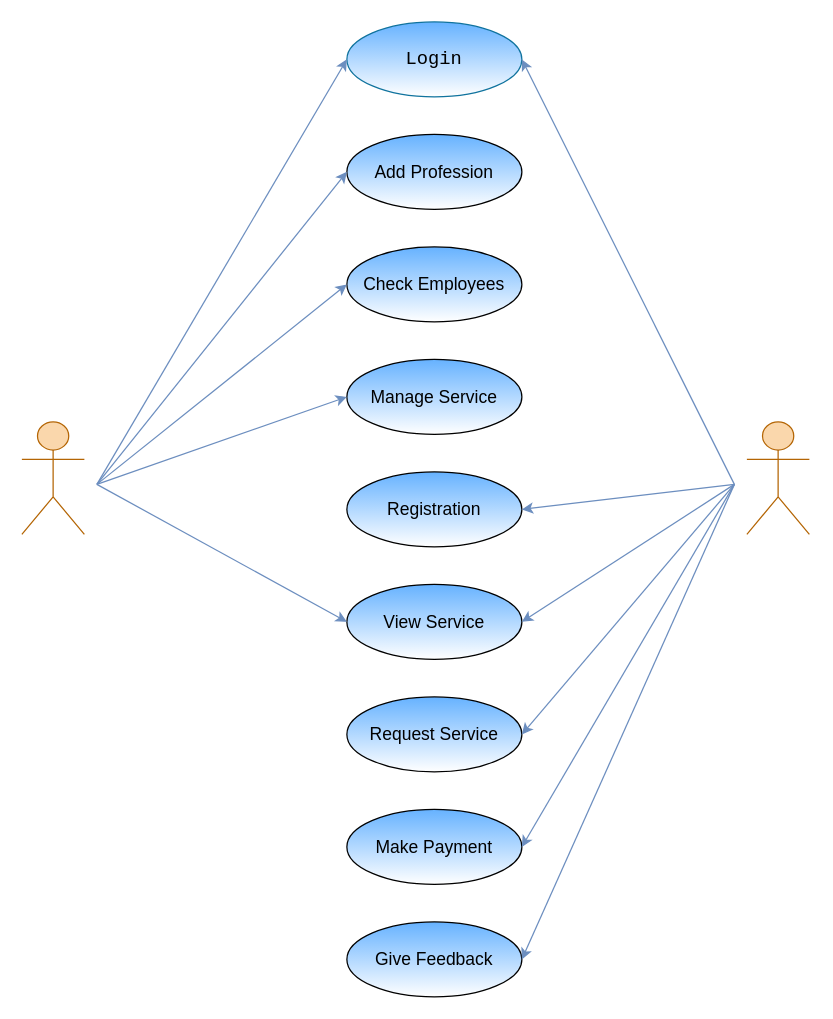
Some shapes in this 833 by 1019 pixel diagram are drawn without their labels. The centre of each missing label's shape, as x and y in pixels:
Admin: the point at 52,477
Customer: the point at 777,477
